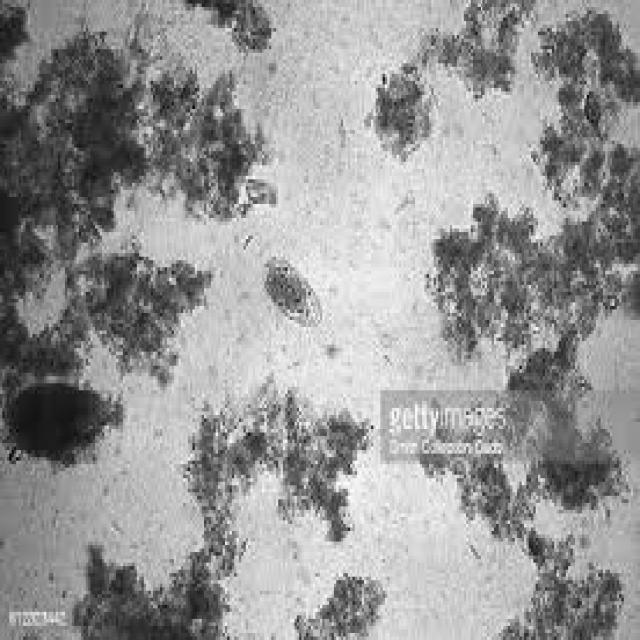Ascaris Lumbricoides: (256, 248, 331, 332)
